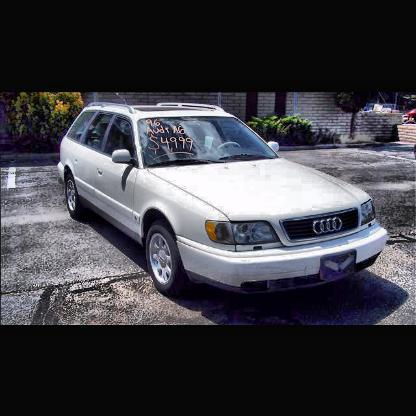Audi 100 Wagon 1994: (58, 93, 388, 297)
